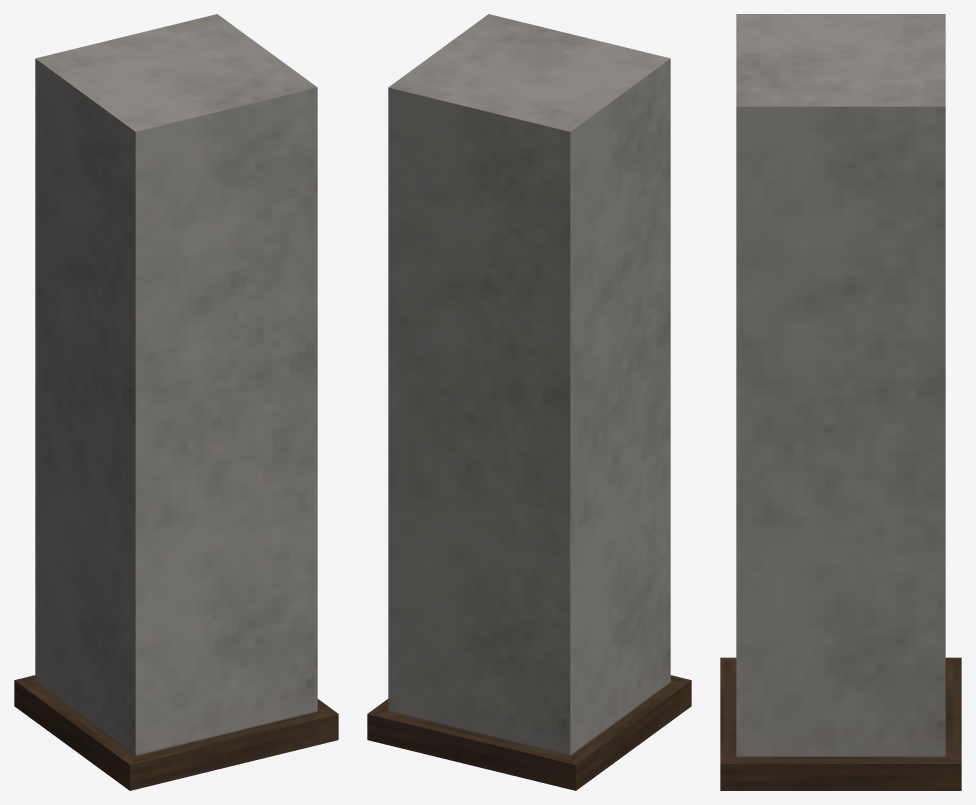
Rendered from SM_Pillar.glb.
3 views of the same model, side by side, from view 1: azimuth 30°, elevation 25°; view 2: azimuth 150°, elevation 25°; view 3: azimuth 270°, elevation 25° (orthographic). The views are drawn at different scales.
Visible parts, largest first — view 1: SM_Pillar; view 2: SM_Pillar; view 3: SM_Pillar.
Part boxes in pixels (box(x1,y1,x2,y2)): SM_Pillar: box(14, 14, 338, 790); SM_Pillar: box(367, 14, 691, 790); SM_Pillar: box(720, 14, 961, 790).
Size of the model in its own units: 0.8401 by 2.5 by 0.8073.
1 material, 1 textured.
